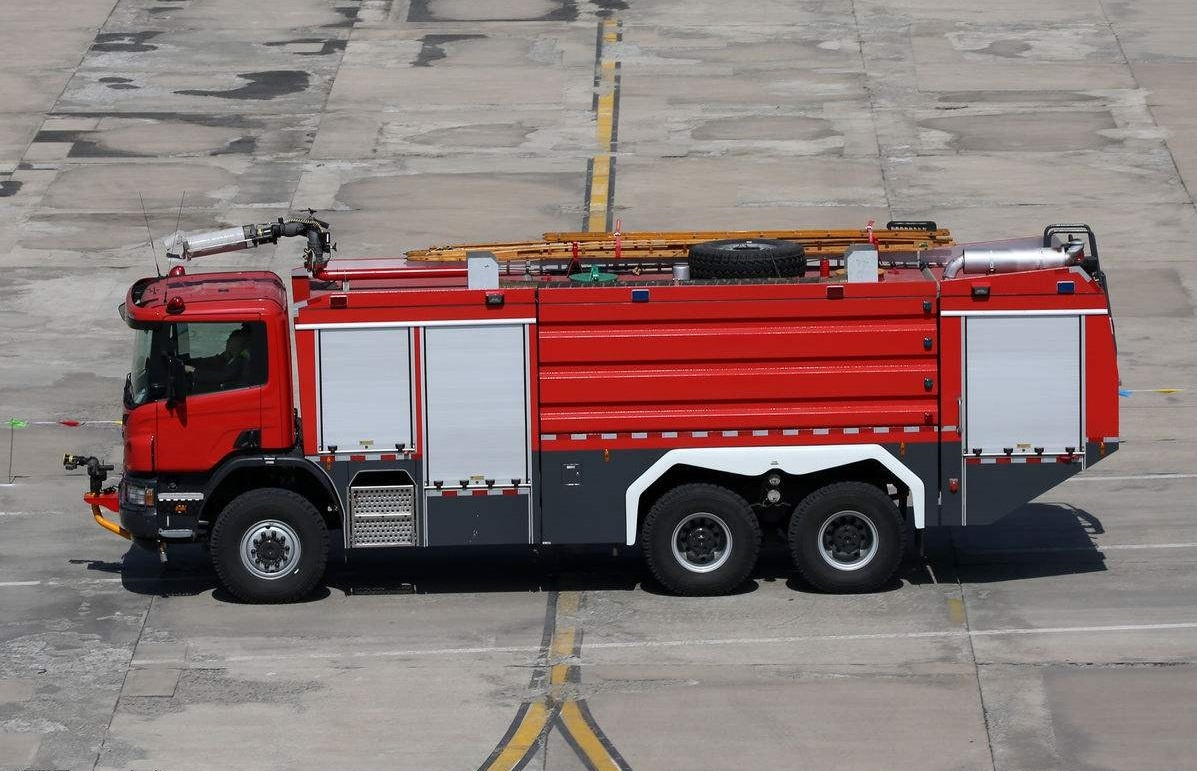fire engine: (73, 203, 1150, 605)
